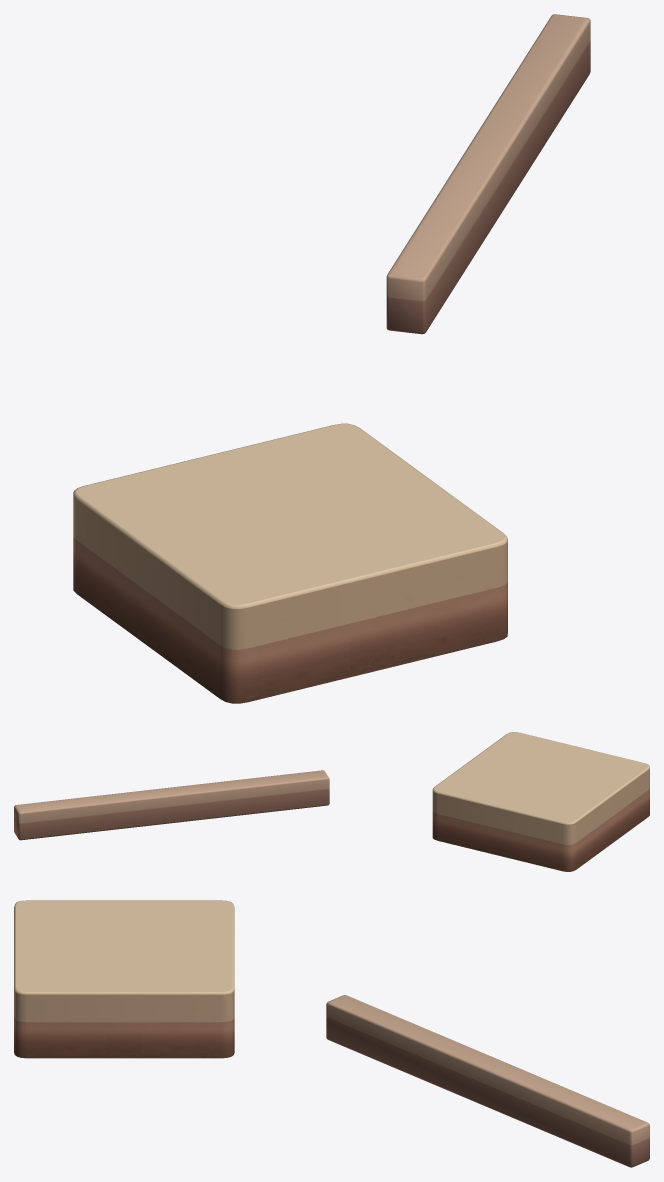
The model's file is Props.fbx.
3 views of the same model, one above another, from view 1: azimuth 30°, elevation 25°; view 2: azimuth 150°, elevation 25°; view 3: azimuth 270°, elevation 25° (orthographic). The views are drawn at different scales.
Visible parts, largest first — view 1: Box02, Box20-3_1; view 2: Box02, Box20-3_1; view 3: Box02, Box20-3_1.
Part boxes in pixels (x1,y1,x2,y2): Box02: (73, 423, 507, 703); Box20-3_1: (386, 14, 590, 334); Box02: (432, 732, 649, 871); Box20-3_1: (14, 770, 329, 840); Box02: (14, 900, 234, 1058); Box20-3_1: (326, 995, 649, 1167).
Bounding box in the file's own units: 23.06 × 4.12 × 23.06.
